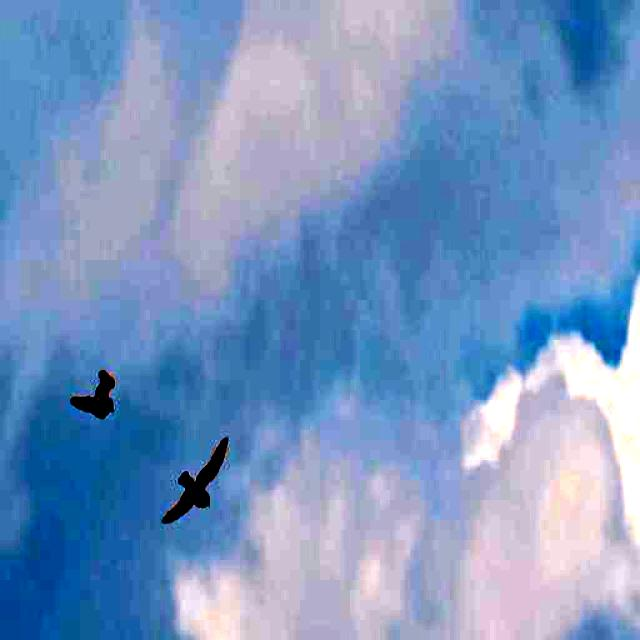airplane: (158, 424, 251, 566), (60, 348, 130, 442)
